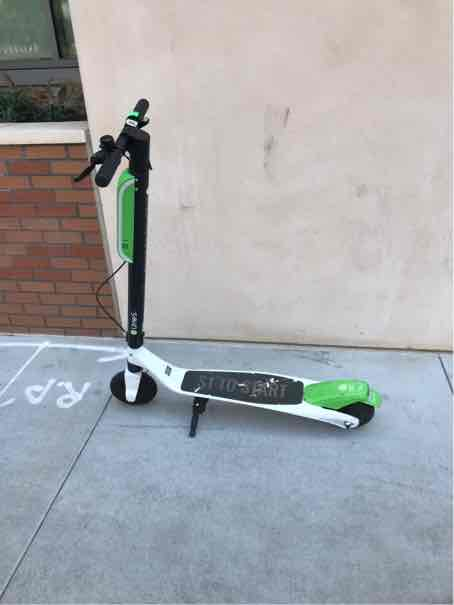scooter: (86, 89, 386, 436)
